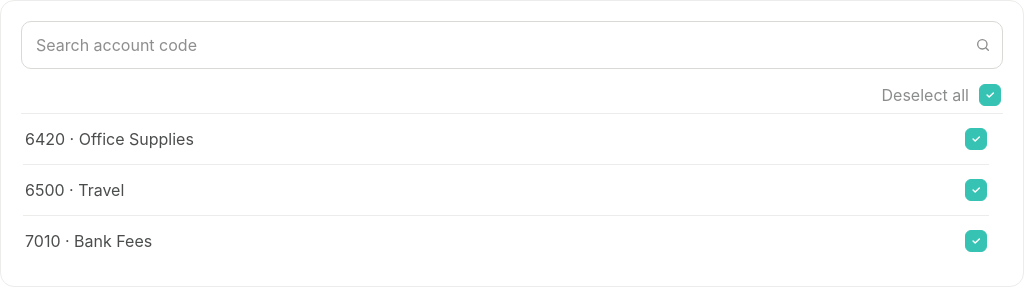
Test: AccountCodesCard › search › matches against the full label when searchLabels is on (the Account step)
Type "office" into the field with placeholder "Search account code" at (512, 45), box [21,21,1003,69]
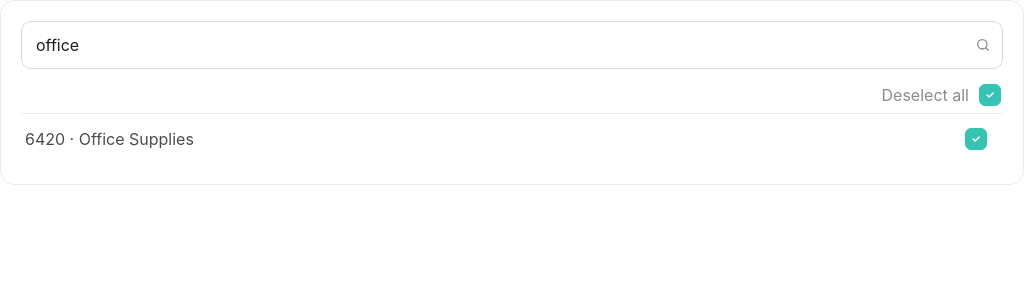
Expected: the text "6420 · Office Supplies" is shown, [25,127,194,151]
Expected: the number of list items with class "acc-row" is 1, [25,128,987,150]
